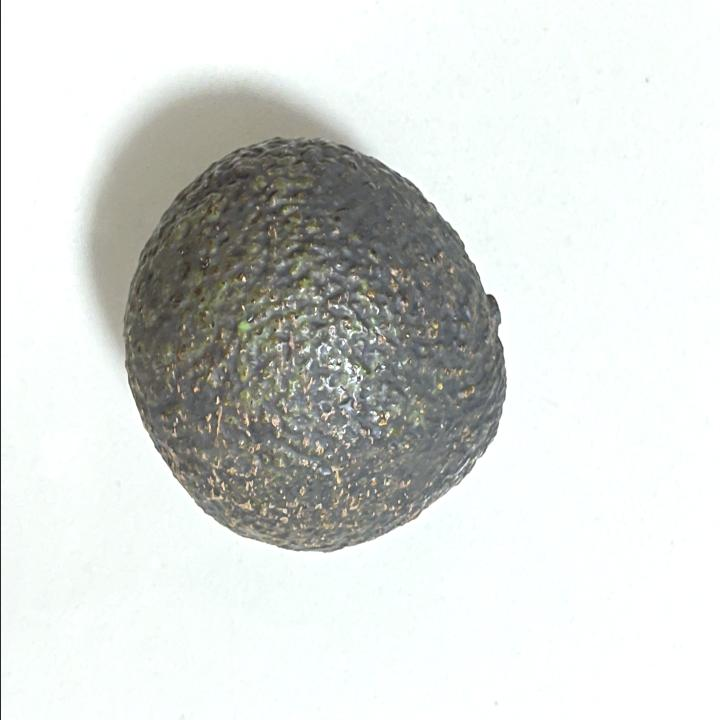Level2: (116, 127, 522, 560)
